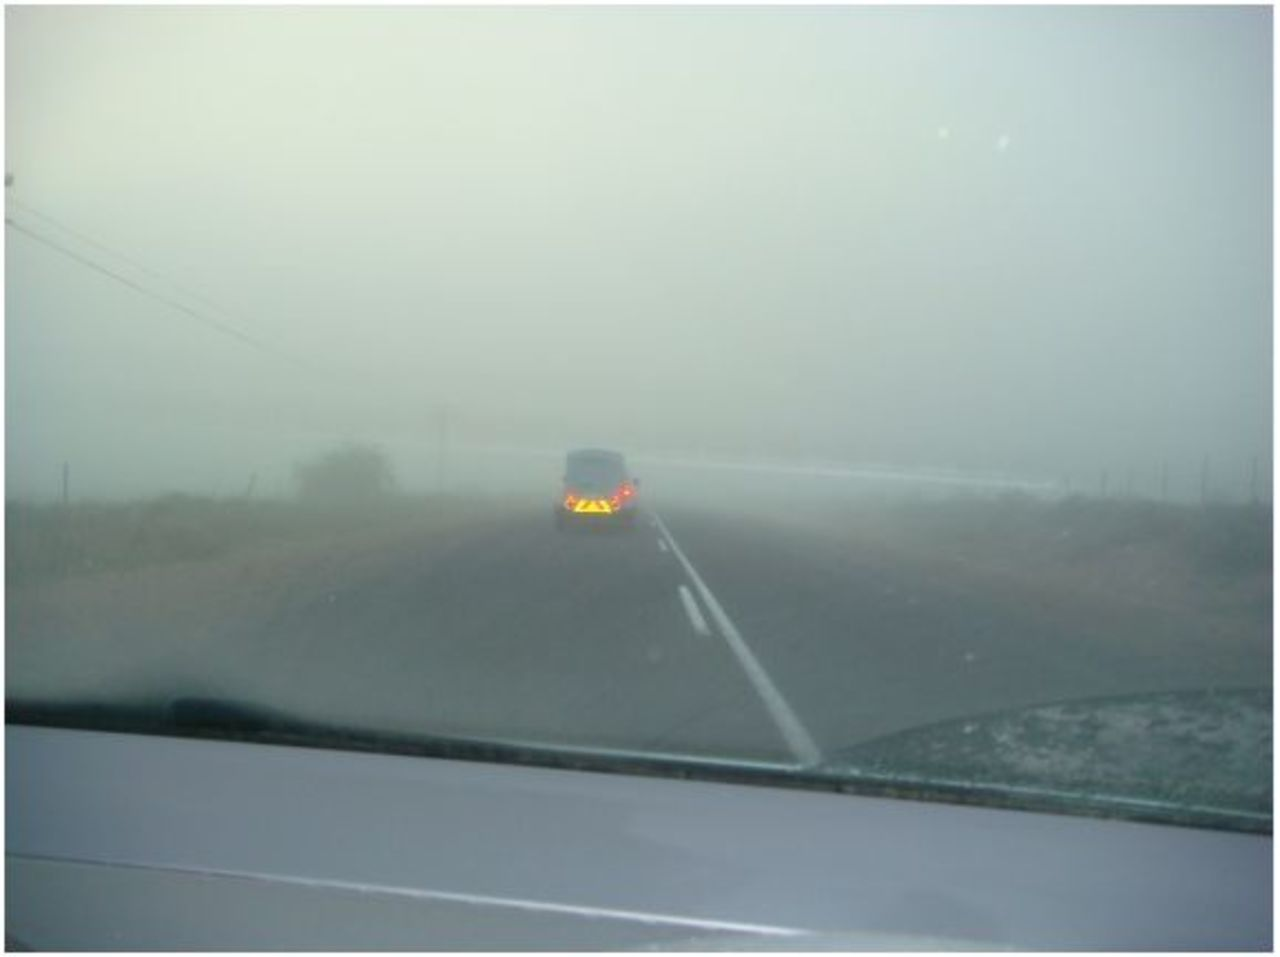car: (550, 443, 641, 531)
